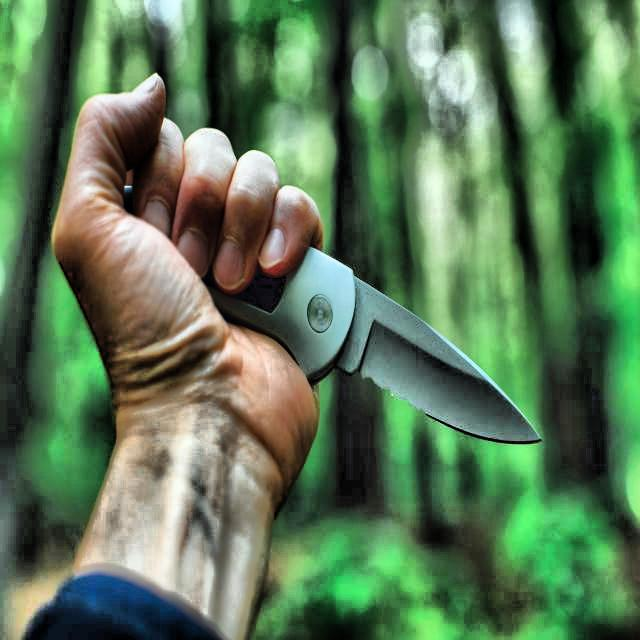knife: (115, 155, 540, 457)
